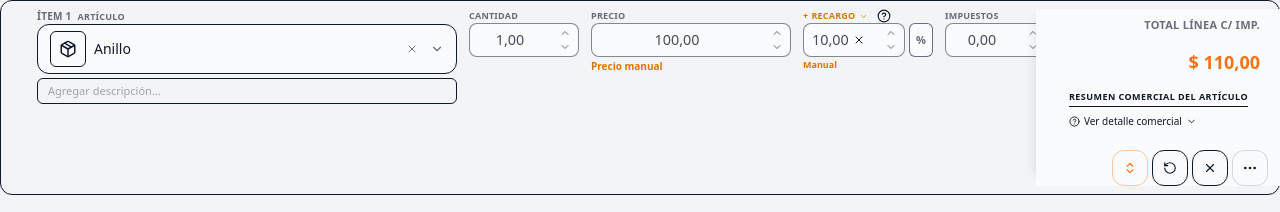
Test: Dropdown Bonificación / Recargo sobre herencia › OPTIMISTIC: SURCHARGE manual → click 'Bonificación' actualiza header al instante
What coordinates should you click on to do the following:
click the button "+ Recargo"
I would click on:
 (835, 16)
Its box is x1=803 y1=9 x2=868 y2=23.
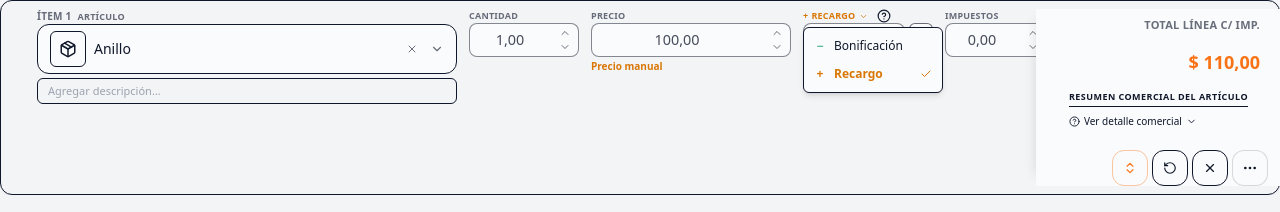
What coordinates should you click on to do the following:
click the menu item "− Bonificación"
I would click on:
 (873, 46)
Its box is x1=804 y1=32 x2=942 y2=60.
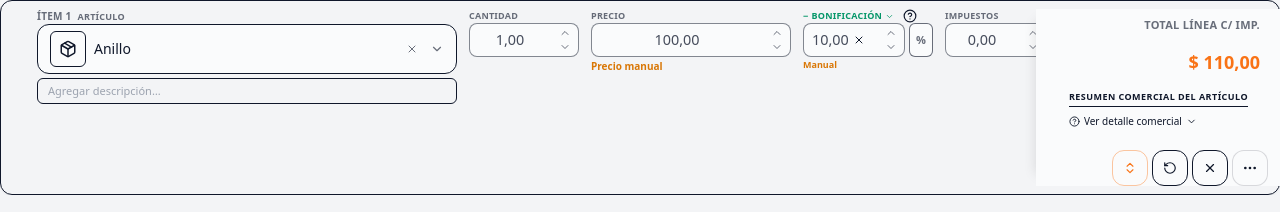
Expected: the button "− Bonificación" is shown, x1=803 y1=9 x2=894 y2=23
